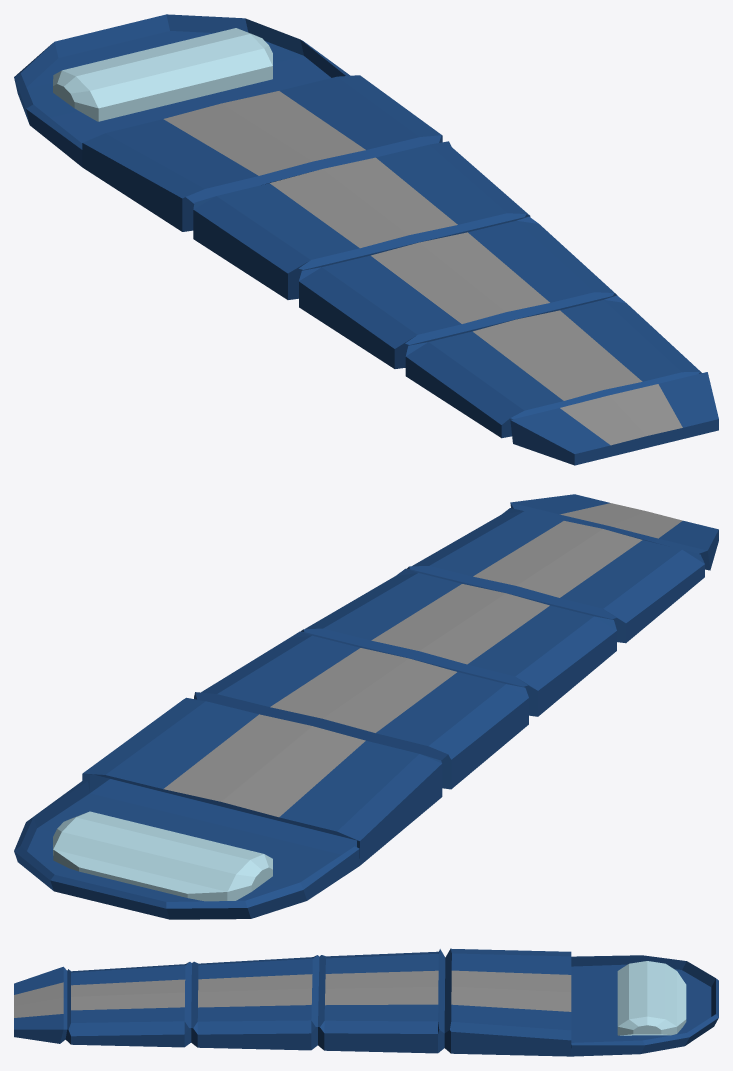
Rendered from SleepingBag.fbx.
3 views of the same model, one above another, from view 1: azimuth 30°, elevation 25°; view 2: azimuth 150°, elevation 25°; view 3: azimuth 270°, elevation 25° (orthographic). The views are drawn at different scales.
Visible parts, largest first — view 1: SleepingBag; view 2: SleepingBag; view 3: SleepingBag.
Boxes of the visible parts, x1,y1,x2,y2 form: SleepingBag: [14, 14, 718, 465]; SleepingBag: [14, 494, 718, 919]; SleepingBag: [14, 948, 718, 1056].
Size of the model in its own units: 110 by 15.82 by 370.
